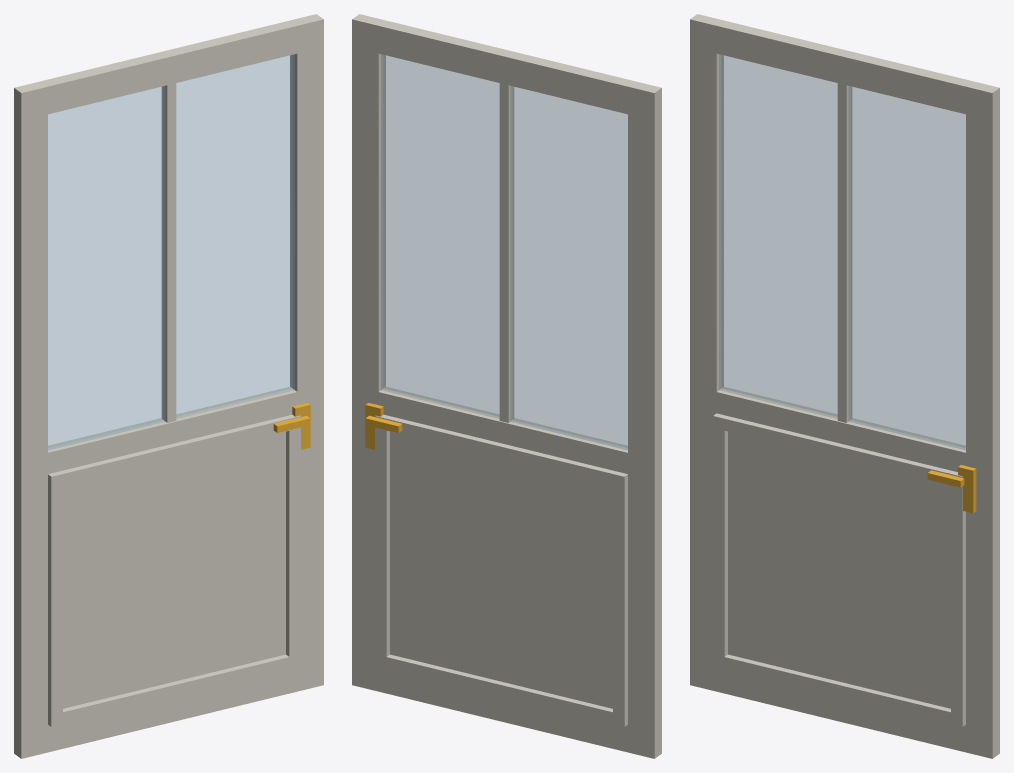
File: SM_Door_ra_120x251.fbx
3 views of the same model, side by side, from view 1: azimuth 30°, elevation 25°; view 2: azimuth 150°, elevation 25°; view 3: azimuth 330°, elevation 25° (orthographic).
Visible parts, largest first — view 1: SM_Door_ra_120x251; view 2: SM_Door_ra_120x251; view 3: SM_Door_ra_120x251.
Part boxes in pixels (left/top/right/bottom): SM_Door_ra_120x251: left=14, top=14, right=323, bottom=758; SM_Door_ra_120x251: left=352, top=14, right=661, bottom=758; SM_Door_ra_120x251: left=690, top=14, right=999, bottom=758.
Bounding box in the file's own units: 1.19 × 2.5 × 0.175.
